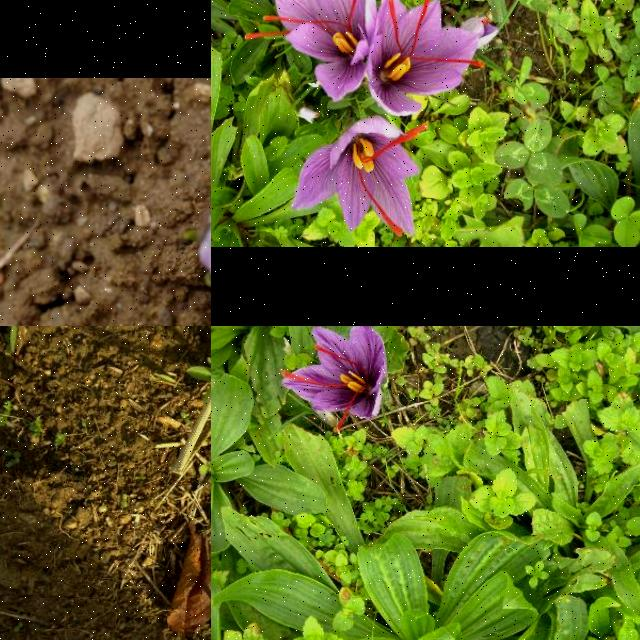flower: (292, 116, 430, 238), (245, 0, 377, 115), (367, 0, 485, 116), (281, 326, 387, 434), (462, 16, 501, 48)
